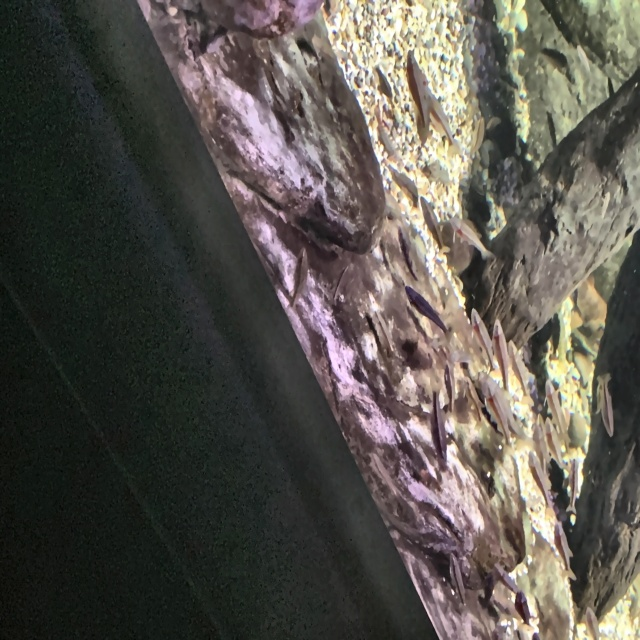fish: (477, 376, 525, 449), (423, 76, 461, 156), (403, 48, 434, 145), (401, 283, 450, 341), (423, 388, 450, 468), (466, 306, 496, 370), (449, 216, 491, 258), (489, 318, 511, 397), (508, 339, 533, 405), (419, 195, 447, 251), (527, 450, 554, 505), (542, 378, 566, 439), (552, 524, 578, 580), (287, 247, 310, 308), (594, 372, 615, 436), (393, 226, 417, 281), (445, 550, 468, 604), (388, 165, 418, 205), (543, 416, 565, 469), (563, 459, 581, 513), (492, 561, 519, 596), (440, 359, 457, 412), (530, 415, 547, 463), (513, 588, 532, 626), (373, 65, 393, 100), (471, 117, 485, 155), (585, 607, 600, 639), (577, 44, 591, 72)
